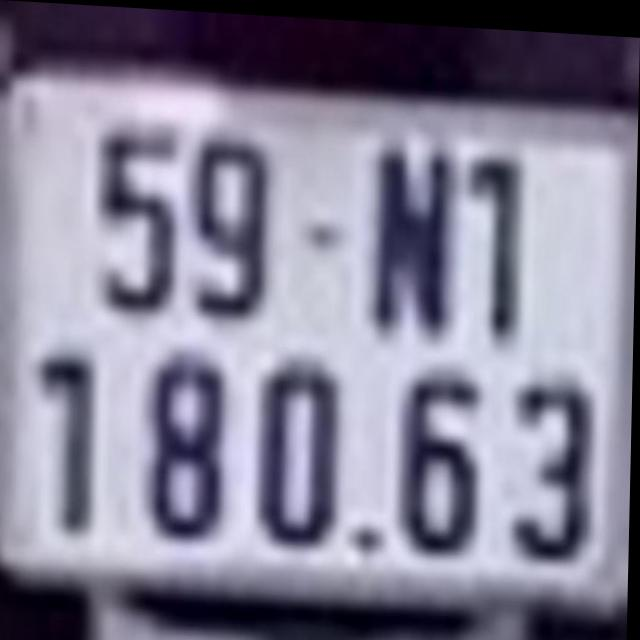0: (249, 335, 345, 544)
1: (35, 343, 105, 538), (467, 144, 528, 329)
3: (504, 359, 603, 564)
5: (89, 113, 187, 316)
6: (377, 346, 487, 560)
8: (144, 340, 228, 549)
9: (186, 112, 280, 320)
N: (362, 133, 458, 338)
